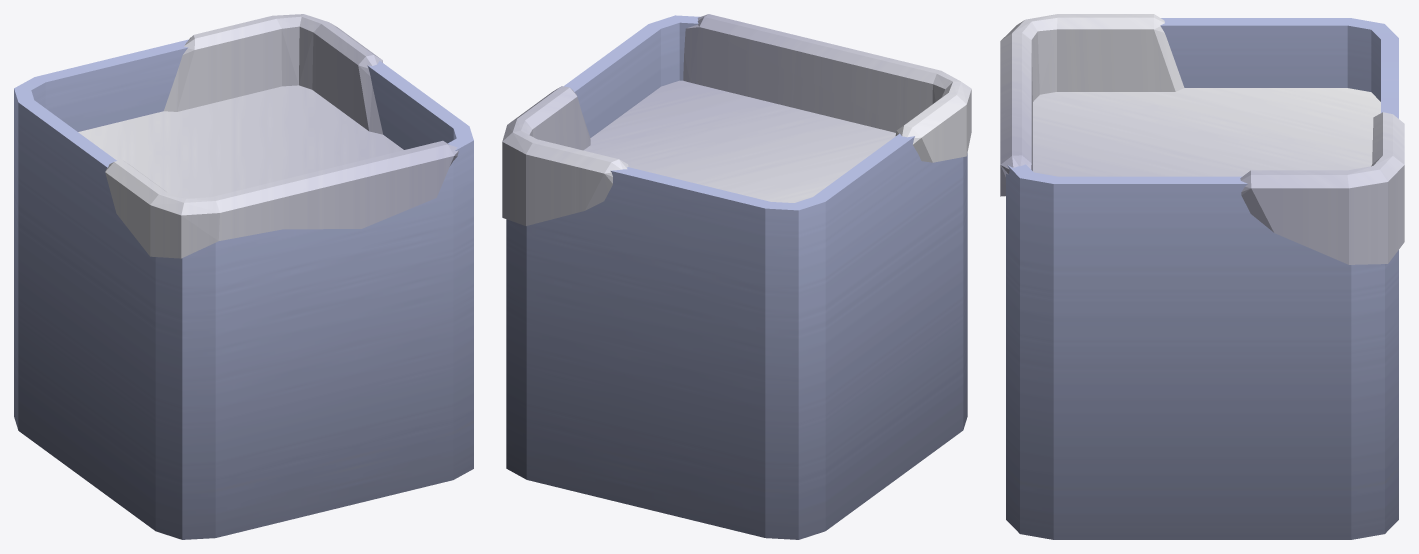
The model's file is painting-pot.glb.
The picture shows the model from 3 angles, left to right: view 1: azimuth 30°, elevation 25°; view 2: azimuth 150°, elevation 25°; view 3: azimuth 270°, elevation 25°; orthographic projection. The views are drawn at different scales.
Visible parts, largest first — view 1: Pot, Paint; view 2: Pot, Paint; view 3: Pot, Paint.
Part boxes in pixels (x1,y1,x2,y2): Pot: (14, 39, 473, 539); Paint: (78, 14, 458, 258); Pot: (506, 15, 967, 539); Paint: (502, 14, 971, 225); Pot: (1006, 18, 1398, 539); Paint: (1000, 14, 1404, 264).
Bounding box in the file's own units: 0.1234 × 0.1225 × 0.1234.
Materials: 1 (1 with a texture image).
